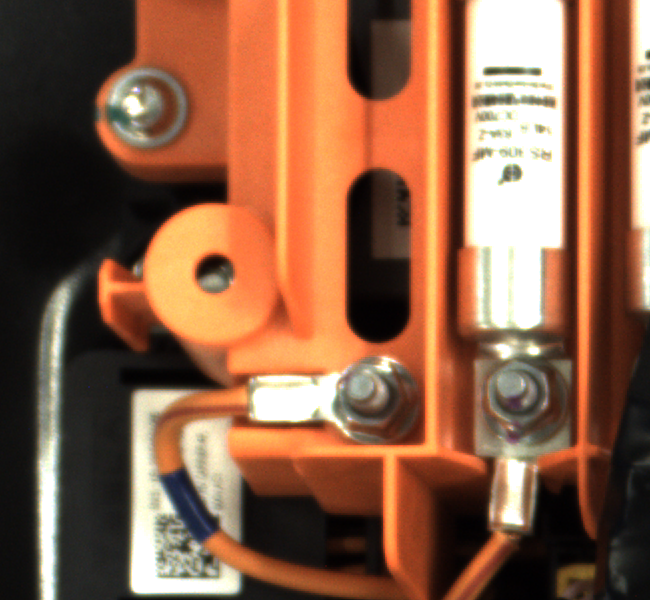screw_m: (103, 74, 220, 169)
screw_s: (466, 350, 570, 444), (323, 350, 415, 441)
